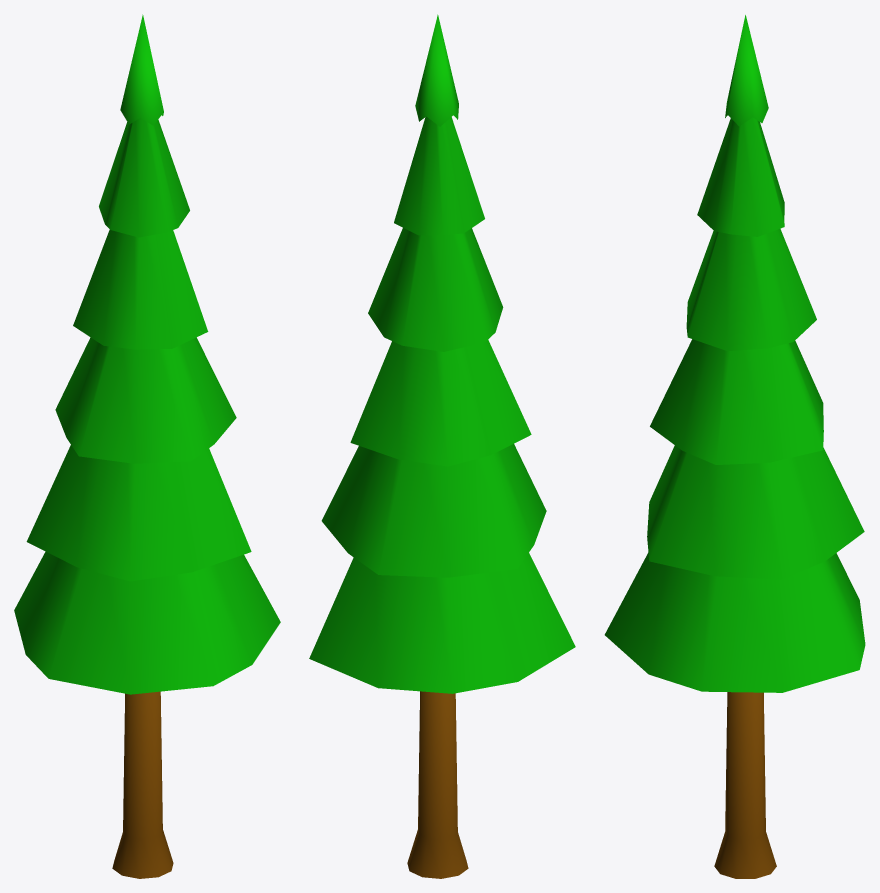
The model's file is Tree.fbx.
3 views of the same model, side by side, from view 1: azimuth 30°, elevation 25°; view 2: azimuth 150°, elevation 25°; view 3: azimuth 270°, elevation 25° (orthographic).
Visible parts, largest first — view 1: Cylinder; view 2: Cylinder; view 3: Cylinder.
Boxes of the visible parts, x1,y1,x2,y2 form: Cylinder: (14, 14, 280, 878); Cylinder: (309, 14, 575, 878); Cylinder: (604, 15, 865, 878).
Size of the model in its own units: 692 by 2427 by 673.
